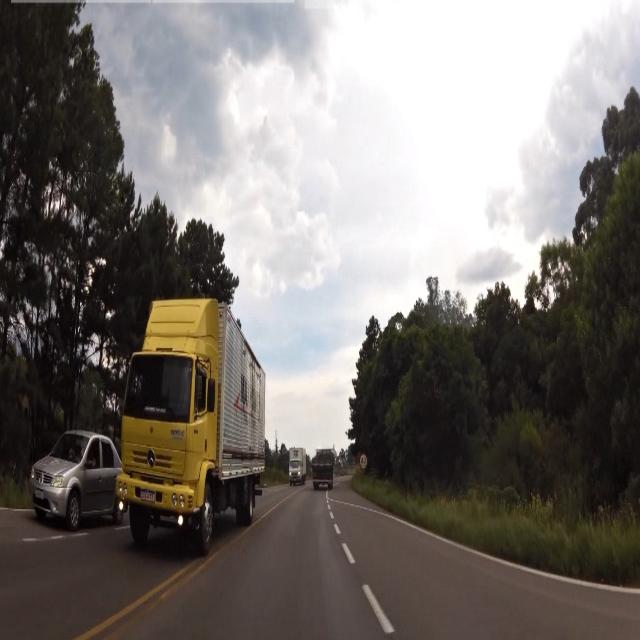R-19: (360, 455, 367, 468)
